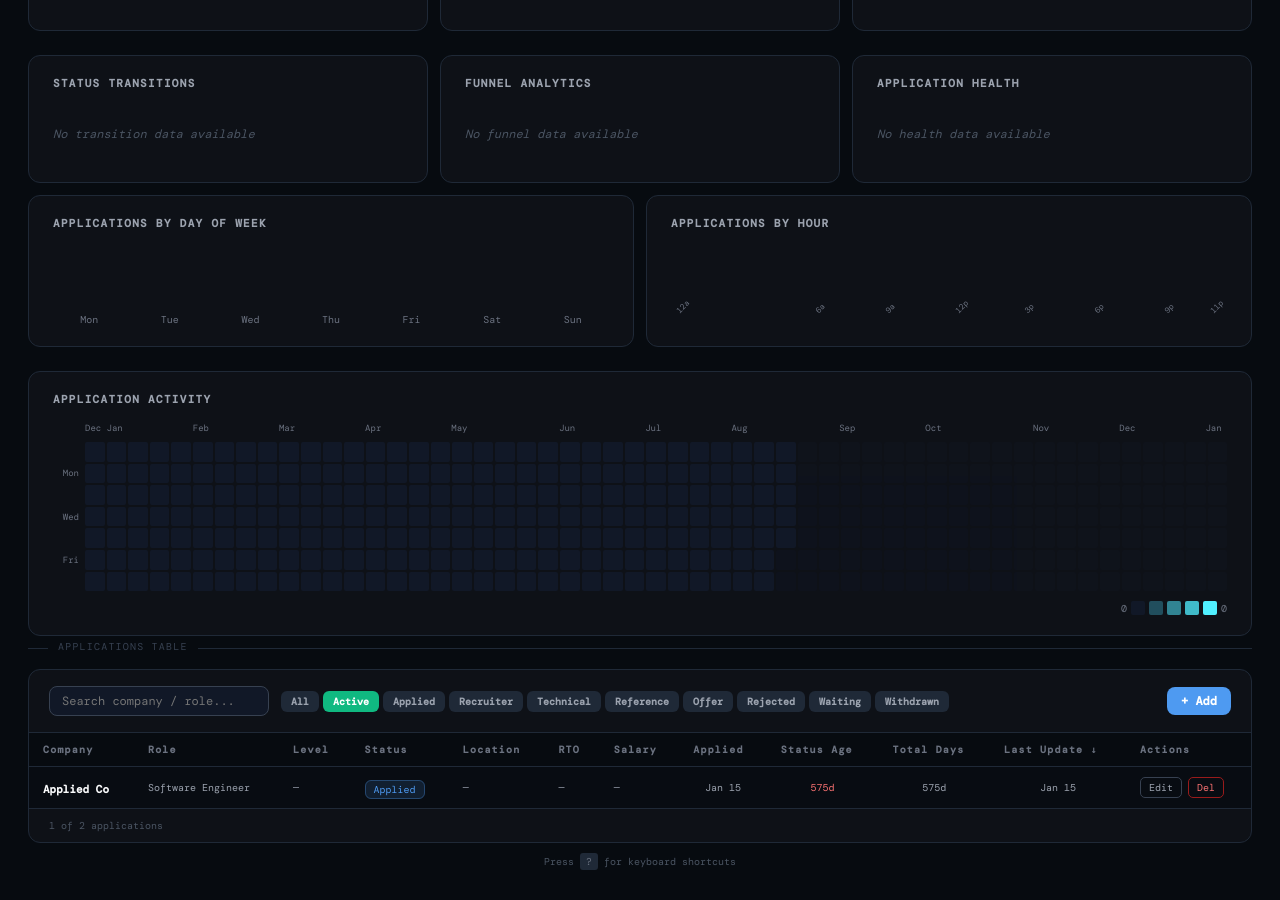
Test: JobTracker (Dashboard) › Filter switching › should switch from Active to Rejected filter
(page scrolled)
expect the table is shown: met, box 29,733 -> 1251,808
// Click Rejected filter
What coordinates should you click on to do the following:
click the button "Rejected"
I would click on:
 (771, 701)
Its box is 737,691 -> 805,712.
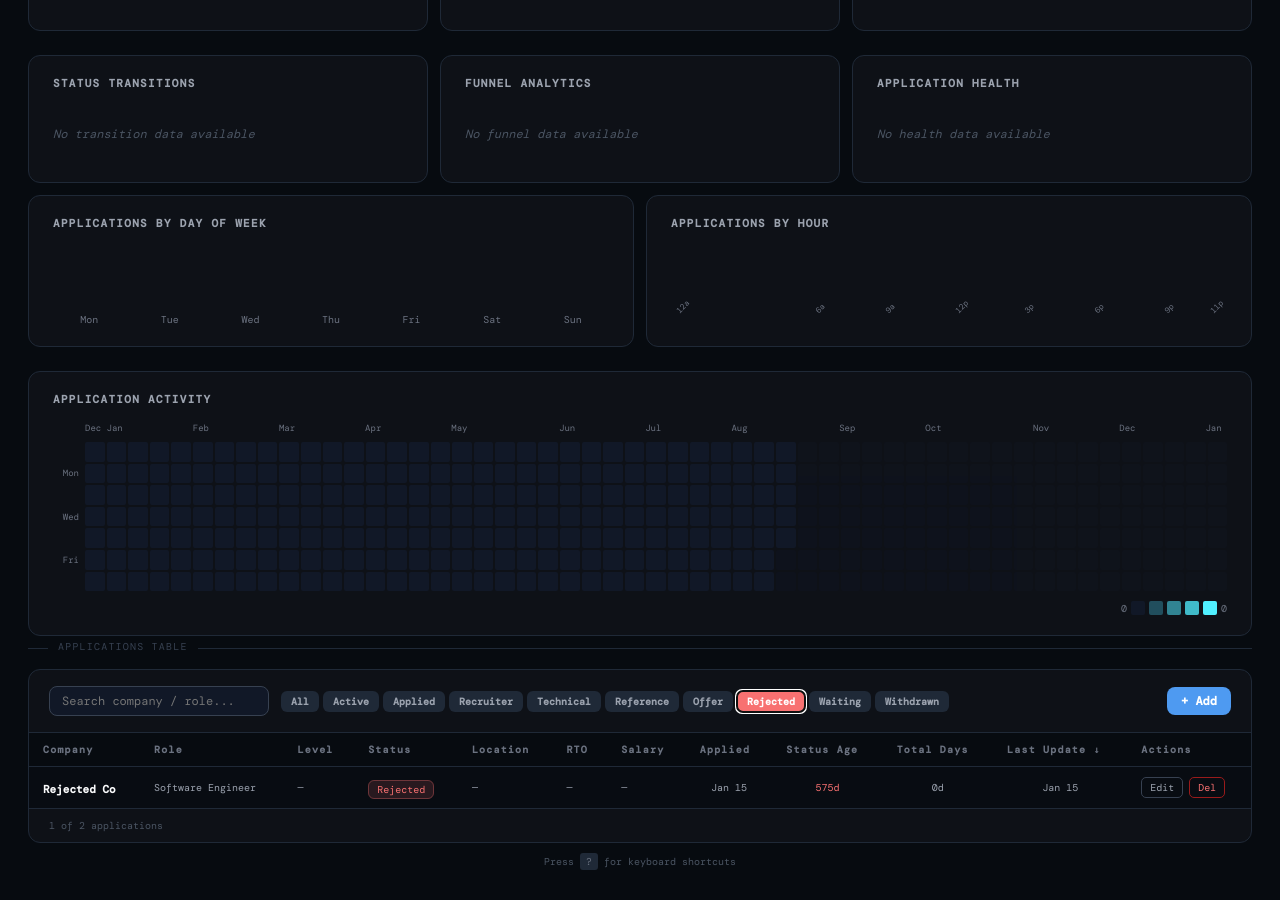
expect the text "Applied Co" is not shown: met
expect the text "Rejected Co" is shown: met, box 43,782 -> 116,796
